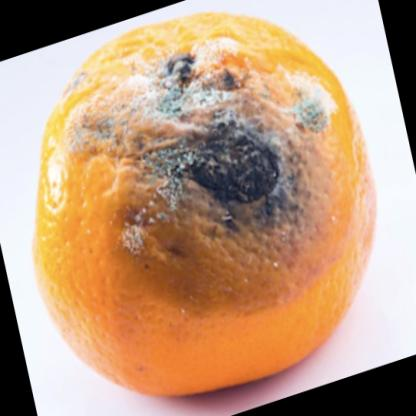rotten: (35, 11, 374, 398)
